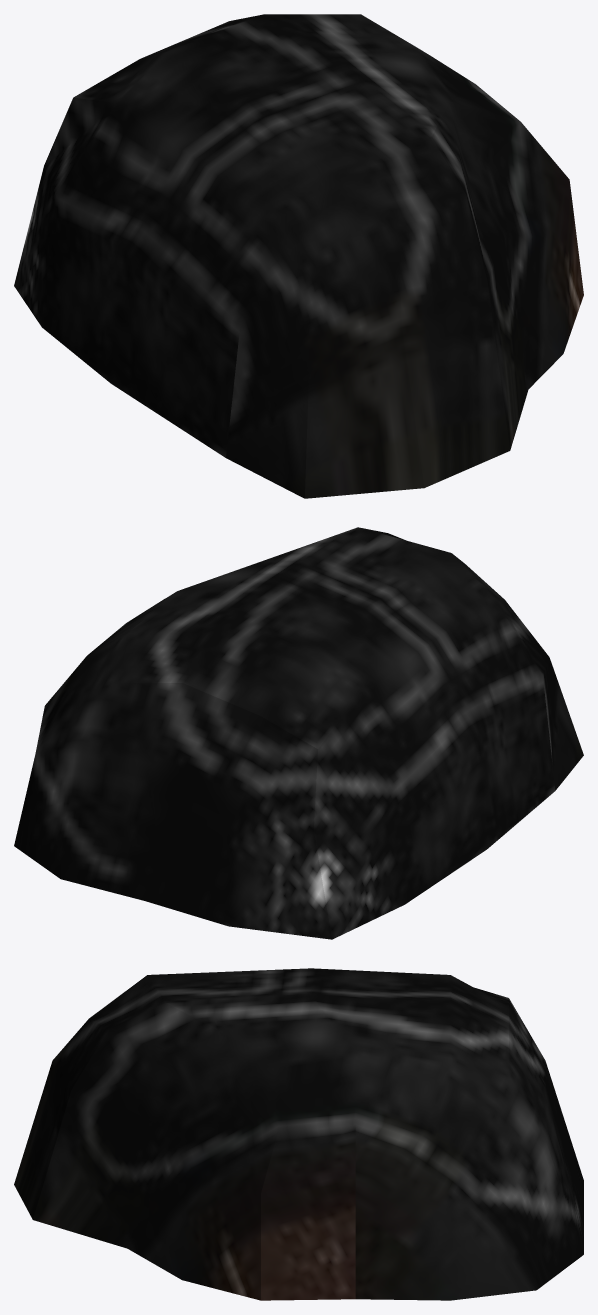
File: stijena_4.glb
3 renders of one model, top to bottom at view 1: azimuth 30°, elevation 25°; view 2: azimuth 150°, elevation 25°; view 3: azimuth 270°, elevation 25°, orthographic. The views are drawn at different scales.
Visible parts, largest first — view 1: Rock_4_1_Rocks:aiStandardSurface4_0; view 2: Rock_4_1_Rocks:aiStandardSurface4_0; view 3: Rock_4_1_Rocks:aiStandardSurface4_0.
Part boxes in pixels (x1,y1,x2,y2): Rock_4_1_Rocks:aiStandardSurface4_0: (14, 14, 583, 498); Rock_4_1_Rocks:aiStandardSurface4_0: (14, 527, 583, 939); Rock_4_1_Rocks:aiStandardSurface4_0: (14, 968, 583, 1300).
Bounding box in the file's own units: 1.14 × 0.674 × 1.5.
Materials: 1 (1 with a texture image).
